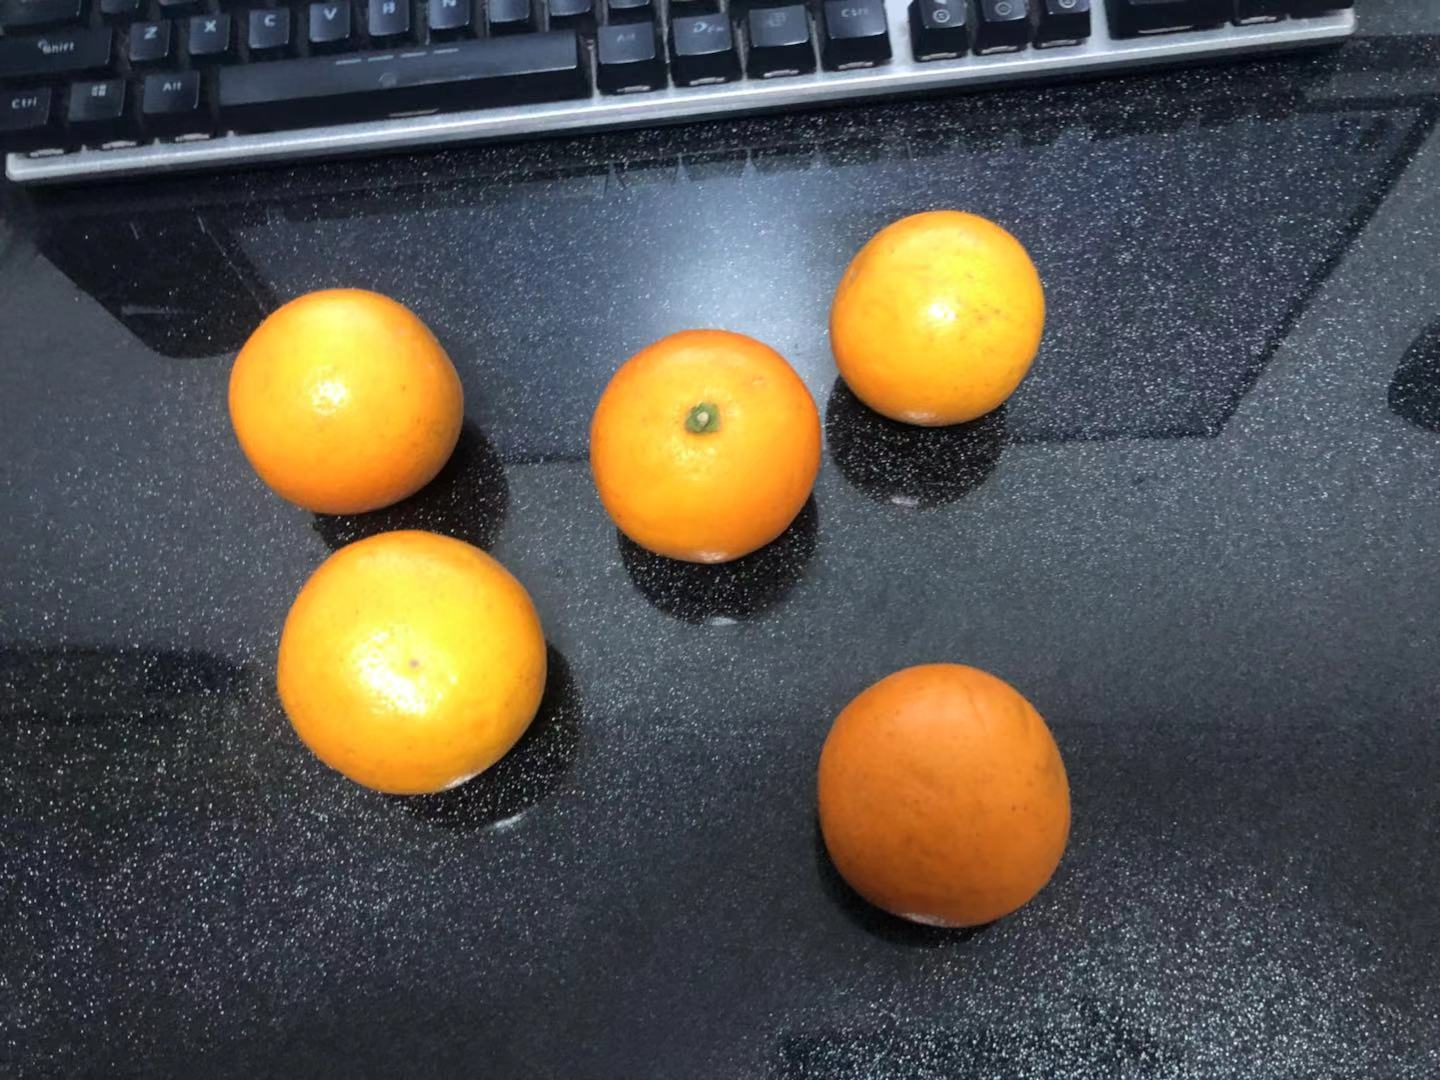goods: (276, 530, 547, 795), (818, 663, 1071, 926), (590, 328, 822, 564), (227, 288, 461, 514), (830, 210, 1043, 424)
